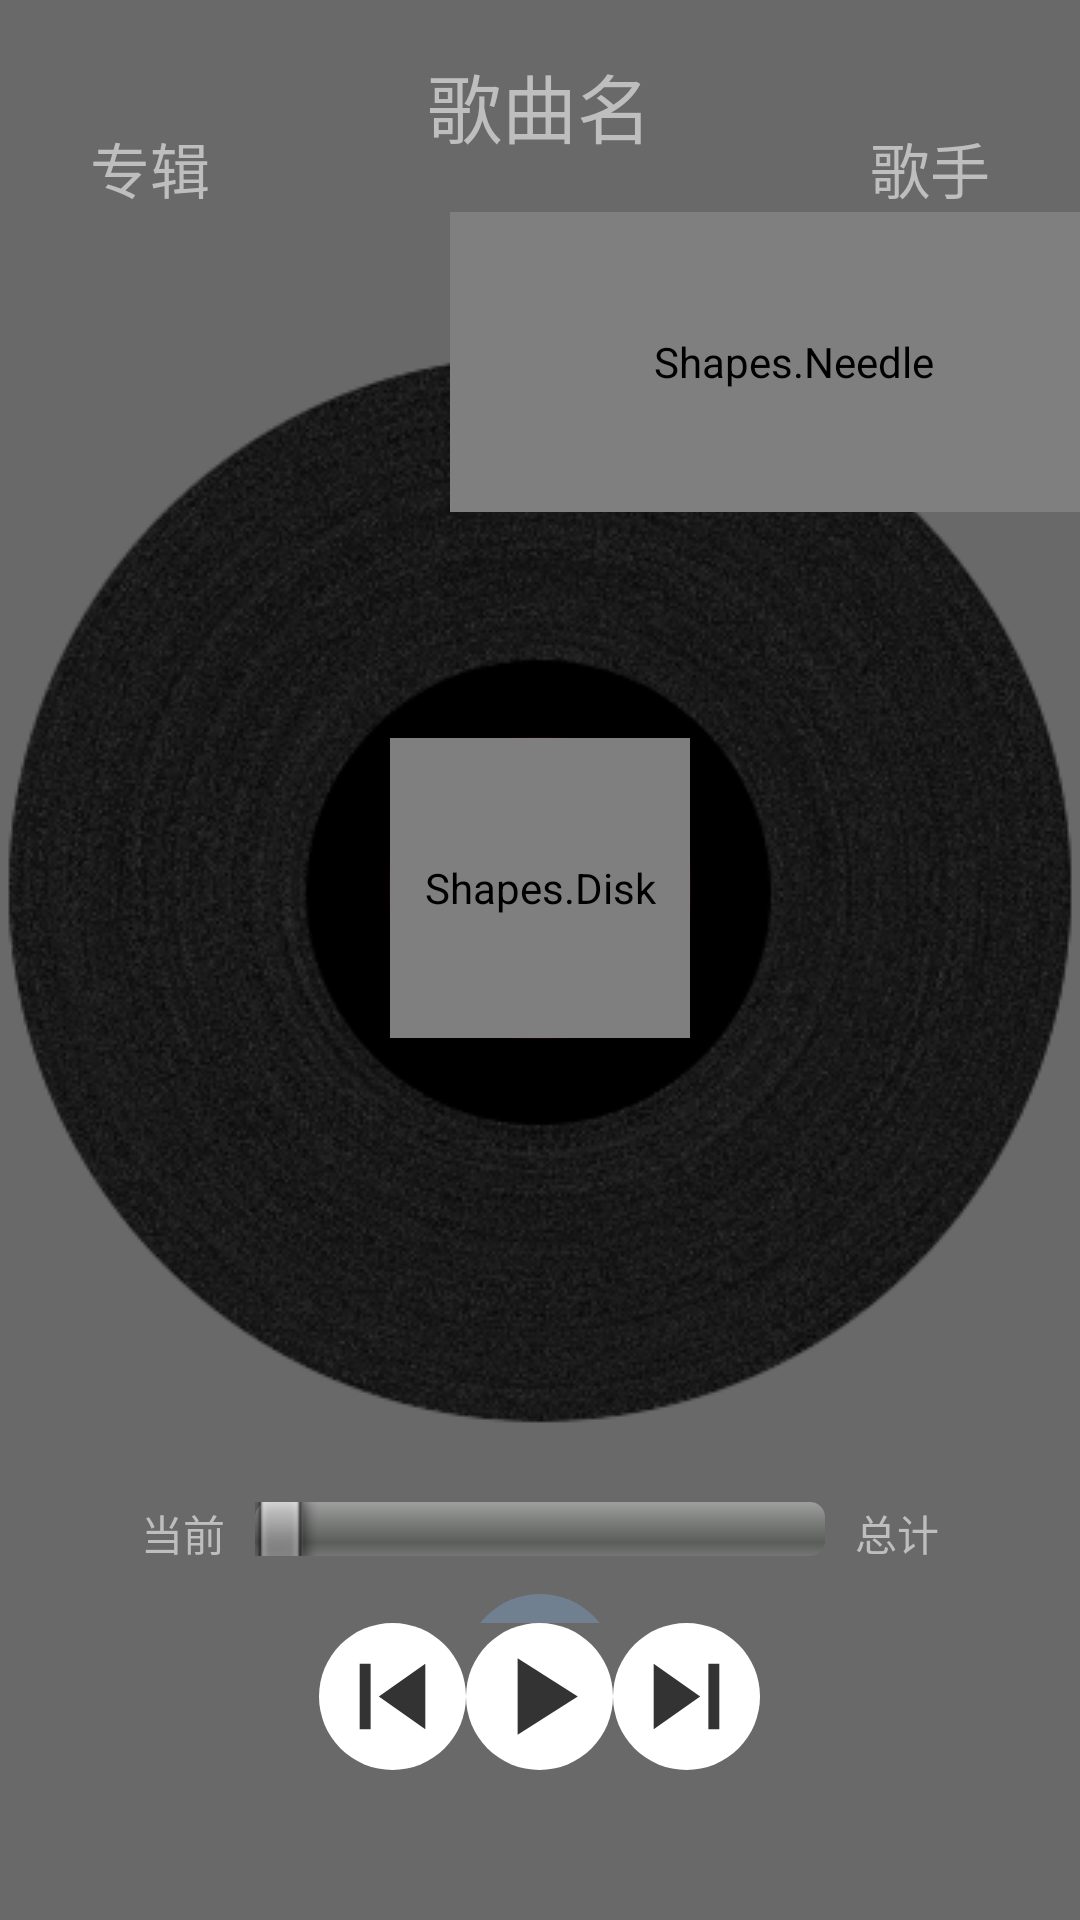

Locate icon controls on the screen. Image size 1080×1920, boxes as box=[x1, y1, x2, y2].
next: box=[613, 1623, 760, 1770]
prev: box=[319, 1623, 466, 1770]
